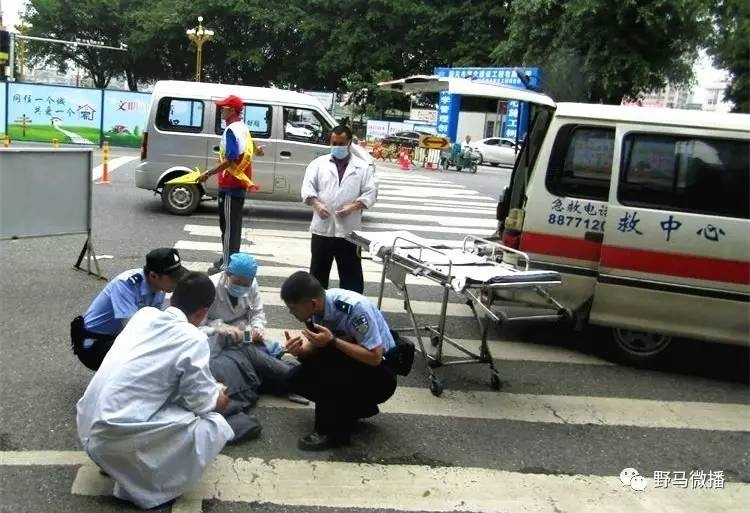falling: (178, 319, 321, 422)
